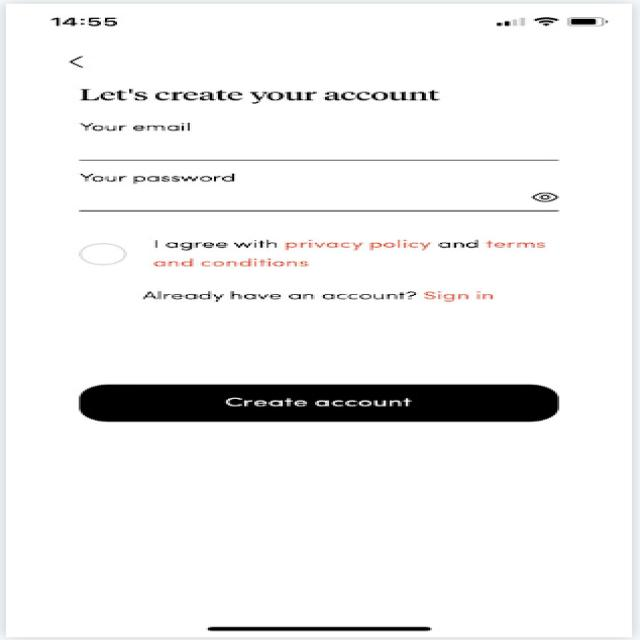button: (49, 370, 598, 440)
icon button: (41, 44, 130, 80)
input: (50, 168, 608, 223), (52, 114, 606, 168)
spacer: (52, 311, 594, 357)
text: (145, 232, 580, 272), (49, 82, 486, 108), (128, 286, 522, 306)
